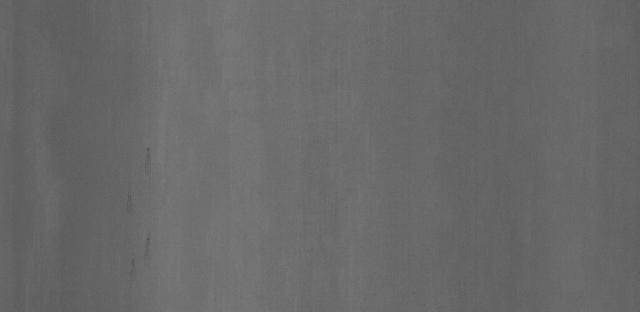water_spot: (119, 135, 169, 279)
